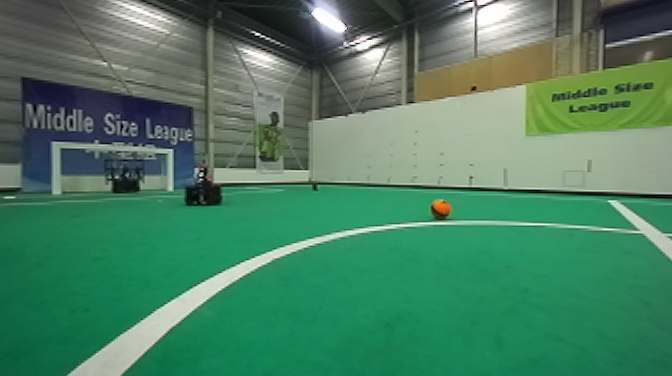ball: (428, 194, 453, 221), (310, 180, 322, 191)
goal: (50, 140, 175, 195)
robot: (183, 151, 224, 209)
